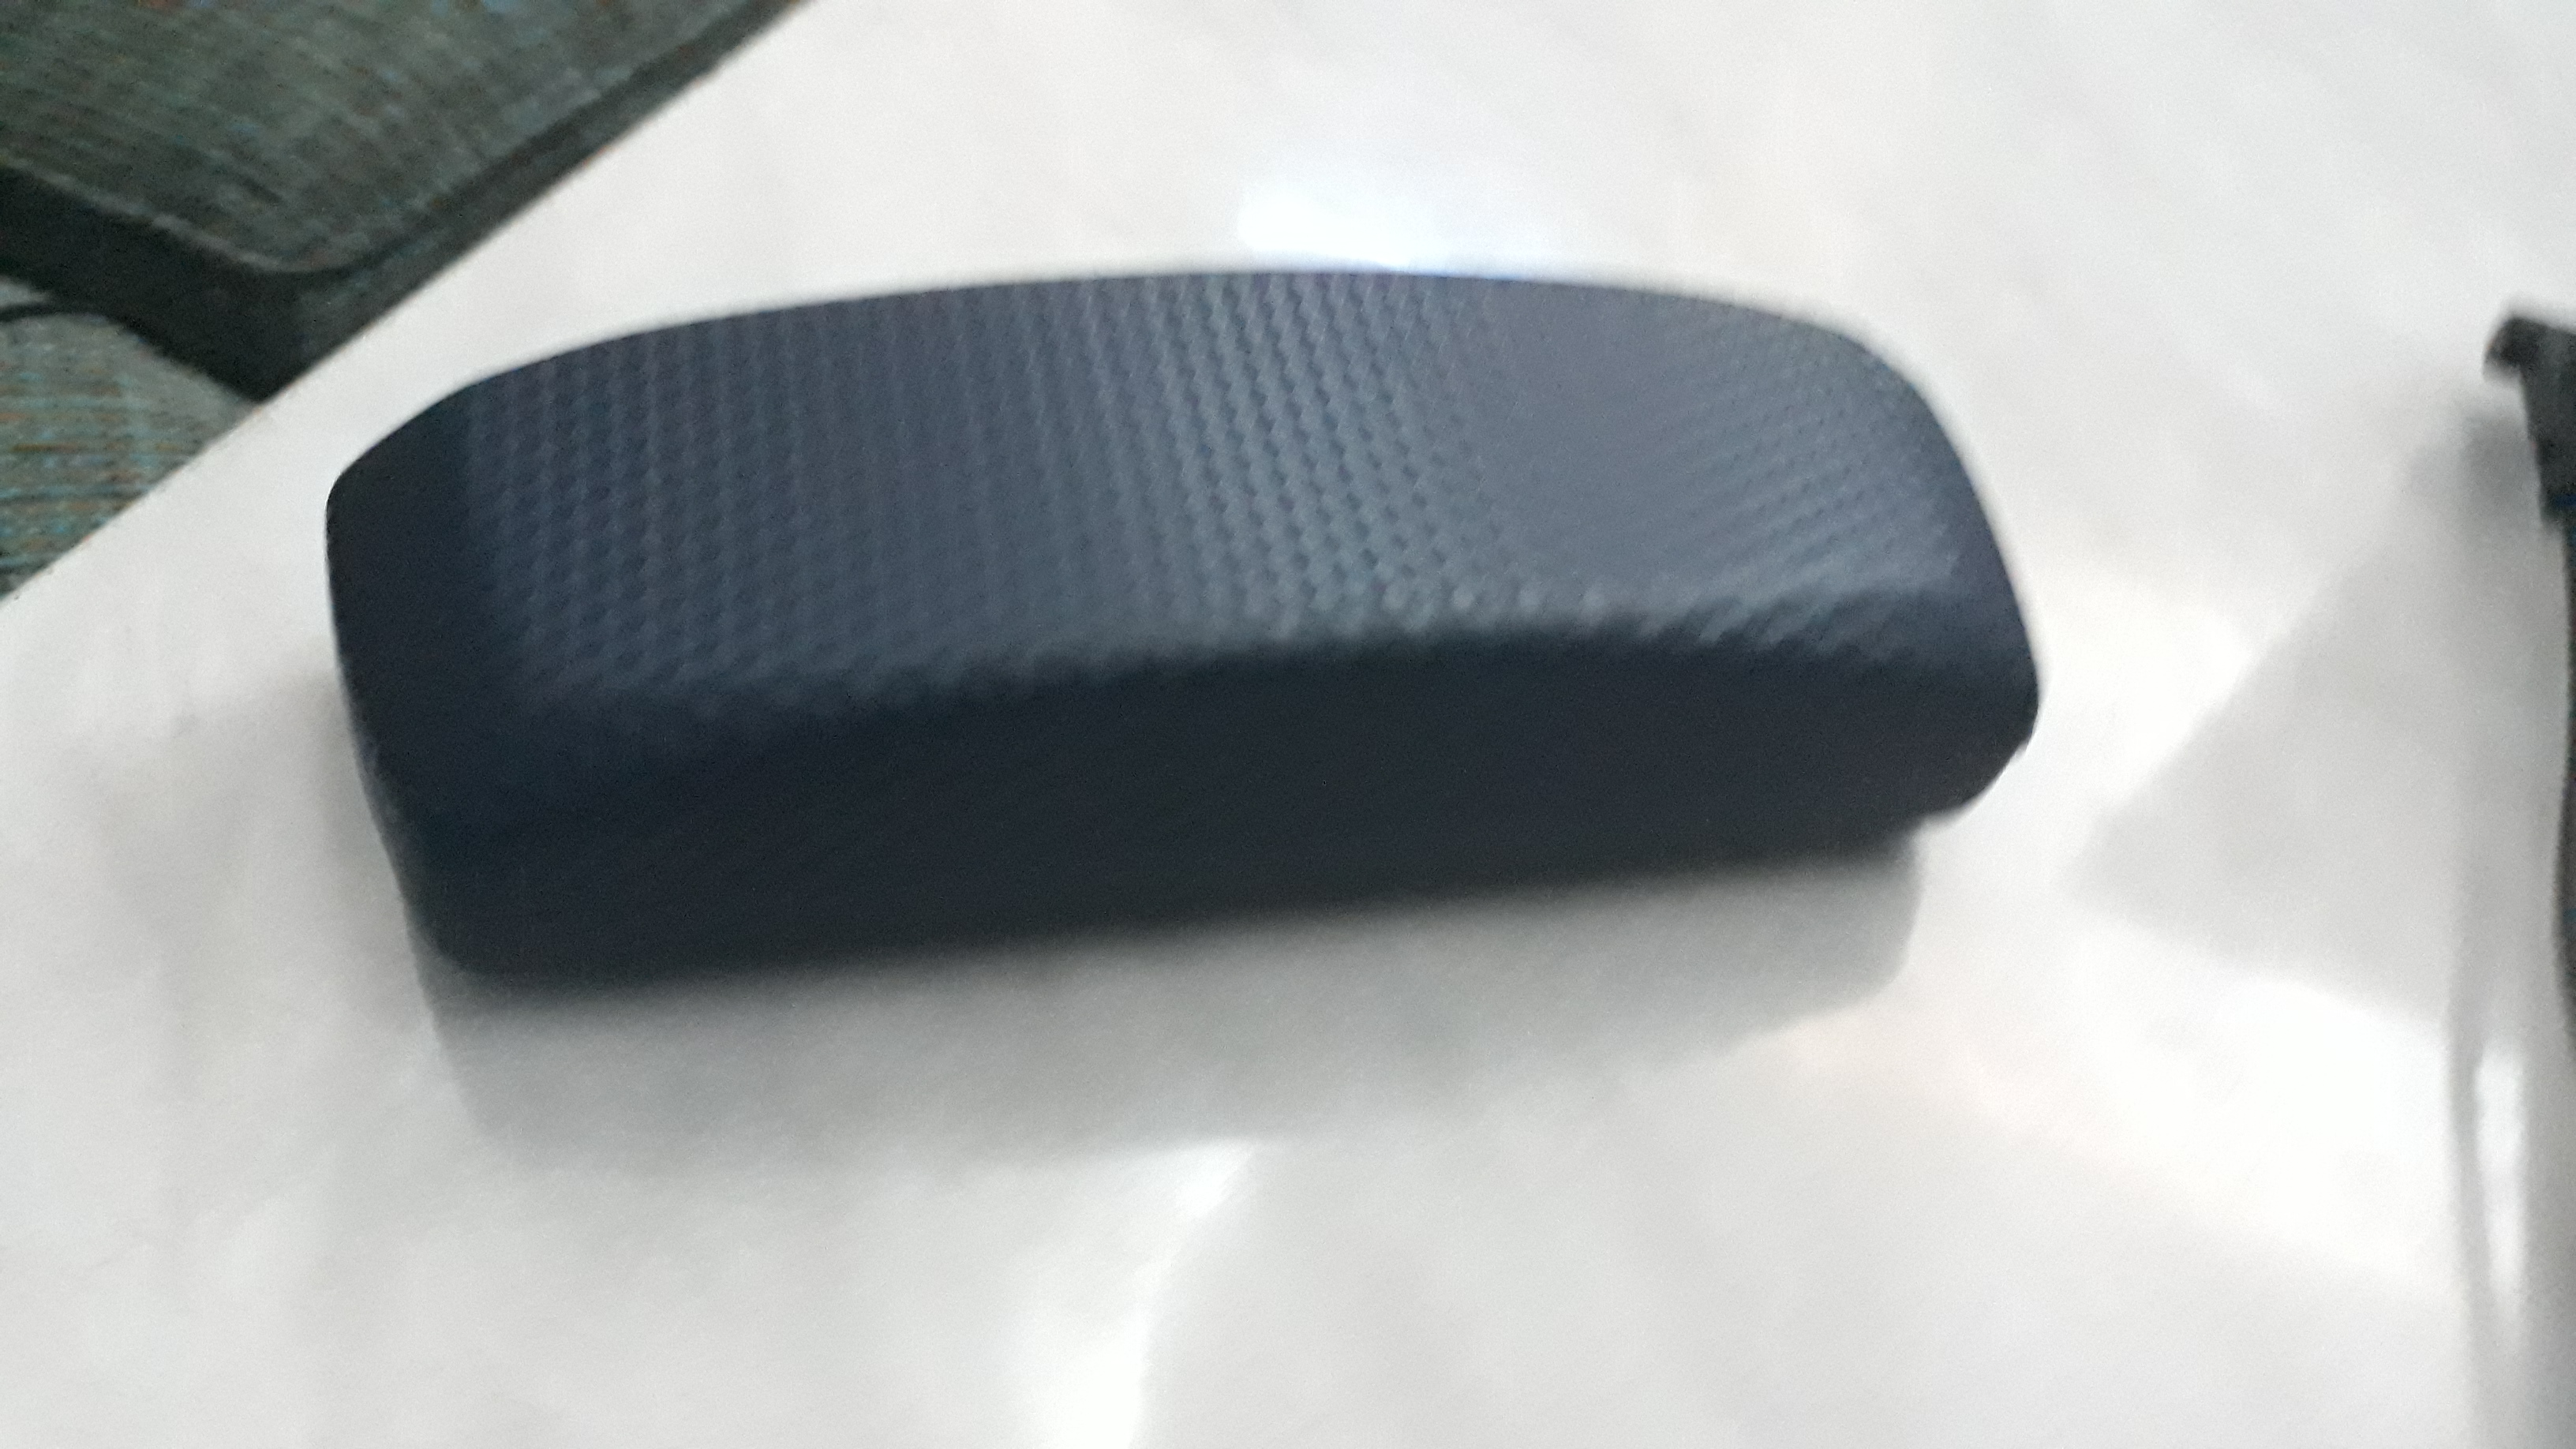nadar: (237, 221, 2052, 1069)
